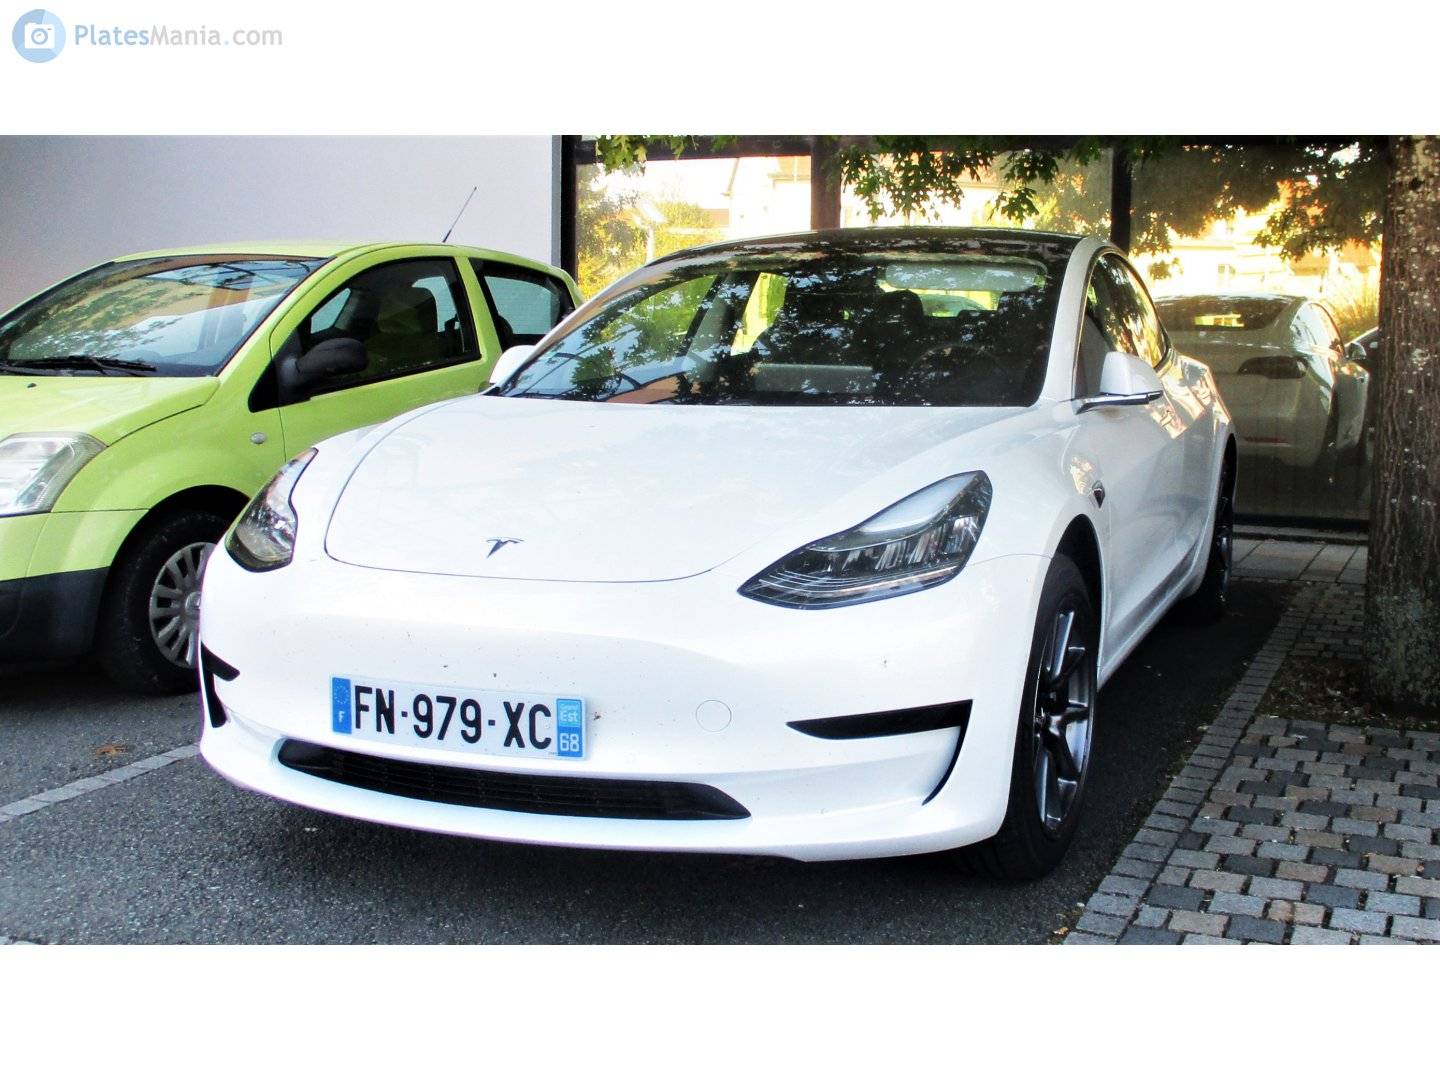licence plate: (328, 673, 594, 764)
